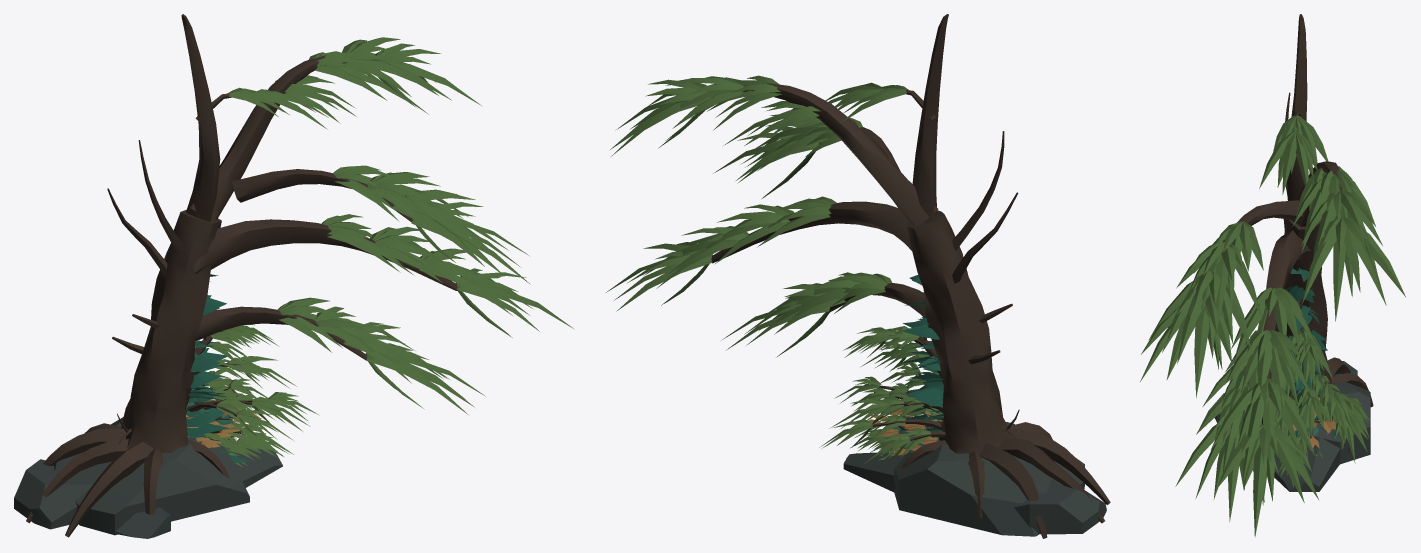
Rendered from Windrift_Trees.fbx.
The picture shows the model from 3 angles, left to right: view 1: azimuth 30°, elevation 25°; view 2: azimuth 150°, elevation 25°; view 3: azimuth 270°, elevation 25°; orthographic projection. The views are drawn at different scales.
Visible parts, largest first — view 1: Windrift_Trees_GiantCedar__Bark, Windrift_Trees_GiantCedar__Cedar, Windrift_Trees_GiantCedar__Slate, Windrift_Trees_GaleCedarA1__Cedar, Windrift_Trees_GaleCedarA2__Cedar, Windrift_Trees_BannerPineB1__Needle, Windrift_Trees_BannerPineB2__Needle; view 2: Windrift_Trees_GiantCedar__Bark, Windrift_Trees_GiantCedar__Cedar, Windrift_Trees_GiantCedar__Slate, Windrift_Trees_GaleCedarA2__Cedar, Windrift_Trees_GaleCedarA1__Cedar, Windrift_Trees_BannerPineB1__Needle, Windrift_Trees_BannerPineB2__Needle, Windrift_Trees_GaleCedarA2__Bark; view 3: Windrift_Trees_GiantCedar__Cedar, Windrift_Trees_GiantCedar__Bark, Windrift_Trees_GiantCedar__Slate, Windrift_Trees_GaleCedarA1__Cedar, Windrift_Trees_GaleCedarA2__Cedar, Windrift_Trees_BannerPineB1__Needle, Windrift_Trees_BannerPineB2__Needle.
Part boxes in pixels (x1,y1,x2,y2): Windrift_Trees_GiantCedar__Bark: (26, 14, 458, 537); Windrift_Trees_GiantCedar__Cedar: (226, 37, 574, 414); Windrift_Trees_GiantCedar__Slate: (14, 417, 282, 538); Windrift_Trees_GaleCedarA1__Cedar: (204, 324, 296, 456); Windrift_Trees_GaleCedarA2__Cedar: (205, 378, 319, 445); Windrift_Trees_BannerPineB1__Needle: (187, 274, 230, 438); Windrift_Trees_BannerPineB2__Needle: (186, 340, 251, 462); Windrift_Trees_GiantCedar__Bark: (711, 14, 1110, 538); Windrift_Trees_GiantCedar__Cedar: (606, 75, 908, 357); Windrift_Trees_GiantCedar__Slate: (843, 422, 1106, 536); Windrift_Trees_GaleCedarA2__Cedar: (819, 363, 943, 464); Windrift_Trees_GaleCedarA1__Cedar: (829, 326, 929, 428); Windrift_Trees_BannerPineB1__Needle: (895, 275, 943, 432); Windrift_Trees_BannerPineB2__Needle: (884, 317, 943, 463); Windrift_Trees_GaleCedarA2__Bark: (872, 373, 945, 441); Windrift_Trees_GiantCedar__Cedar: (1140, 115, 1405, 537); Windrift_Trees_GiantCedar__Bark: (1222, 14, 1373, 453); Windrift_Trees_GiantCedar__Slate: (1215, 361, 1370, 491); Windrift_Trees_GaleCedarA1__Cedar: (1276, 330, 1353, 441); Windrift_Trees_GaleCedarA2__Cedar: (1219, 387, 1369, 463); Windrift_Trees_BannerPineB1__Needle: (1286, 268, 1327, 414); Windrift_Trees_BannerPineB2__Needle: (1285, 305, 1340, 454).
Bounding box in the file's own units: 55.53 × 47.95 × 26.41.
